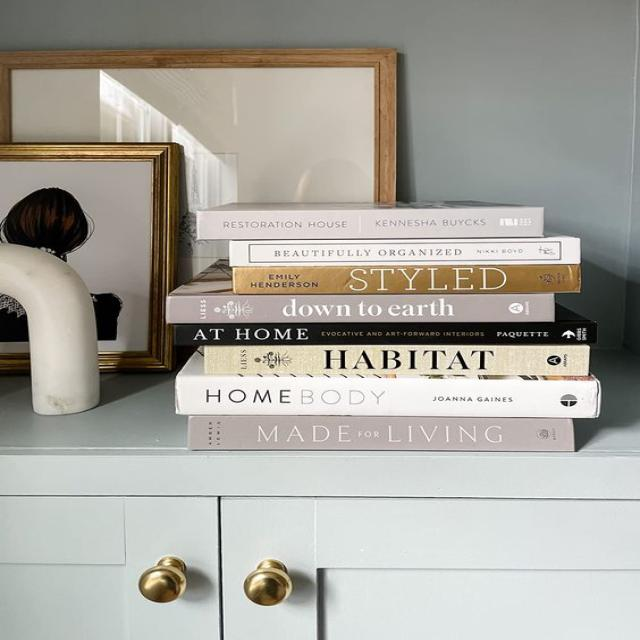book: (176, 356, 600, 418), (177, 306, 596, 346), (188, 416, 574, 450), (201, 345, 589, 378), (166, 291, 554, 323), (229, 237, 579, 267), (233, 264, 580, 294), (199, 212, 546, 238)
